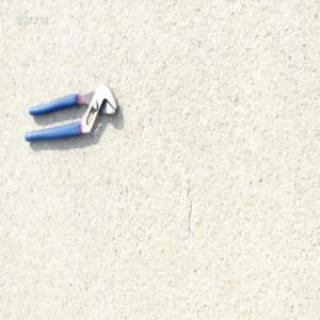Pliertrack_idkeyframe: (22, 80, 118, 143)
